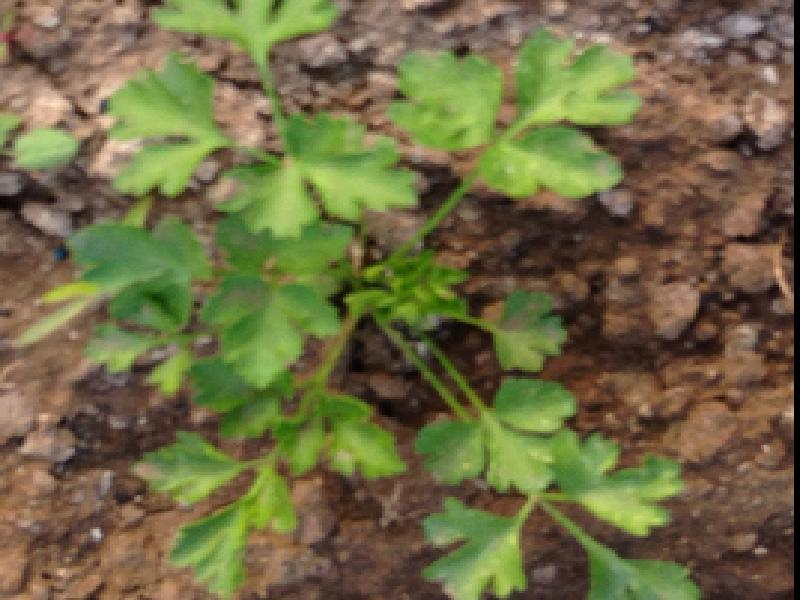radish: (67, 0, 700, 600)
